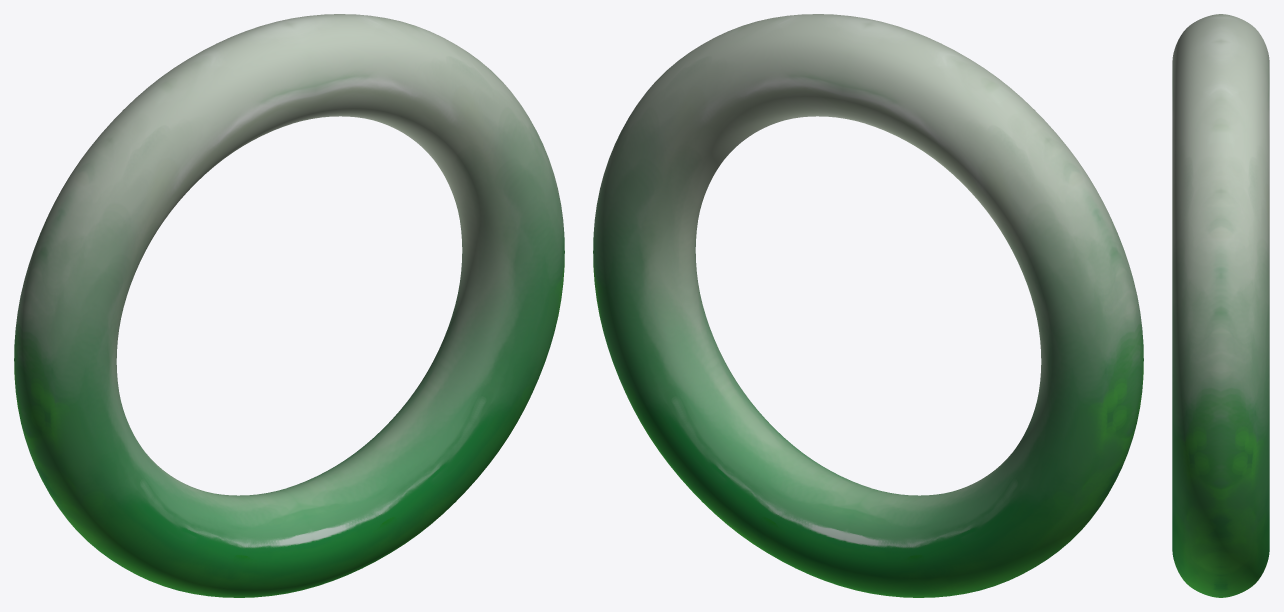
3 views of the same model, side by side, from view 1: azimuth 30°, elevation 25°; view 2: azimuth 150°, elevation 25°; view 3: azimuth 270°, elevation 25° (orthographic). The views are drawn at different scales.
Parts seen in each view (by area): view 1: yuzhuo; view 2: yuzhuo; view 3: yuzhuo.
Boxes of the visible parts, box(x1,y1,x2,y2) form: yuzhuo: box(14, 14, 564, 597); yuzhuo: box(593, 14, 1143, 597); yuzhuo: box(1172, 14, 1269, 597).
Bounding box in the file's own units: 25.24 × 25.28 × 4.21.
1 material, 1 textured.
